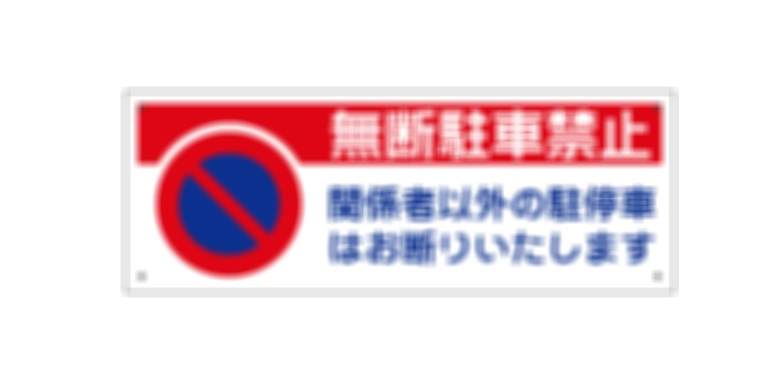Prohibition_sign: (149, 123, 308, 283)
